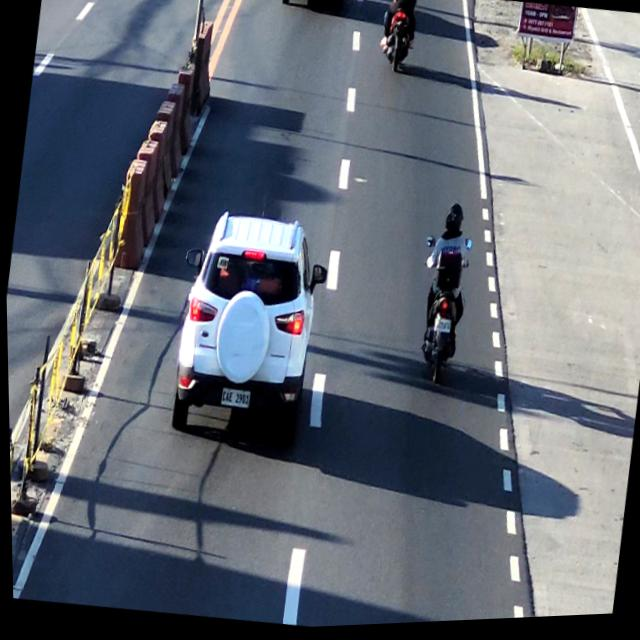Car: (162, 208, 326, 449), (280, 0, 351, 20)
License-Plate: (214, 387, 251, 416), (430, 317, 451, 340)
Motorcycle: (406, 200, 478, 393), (376, 0, 422, 82)
